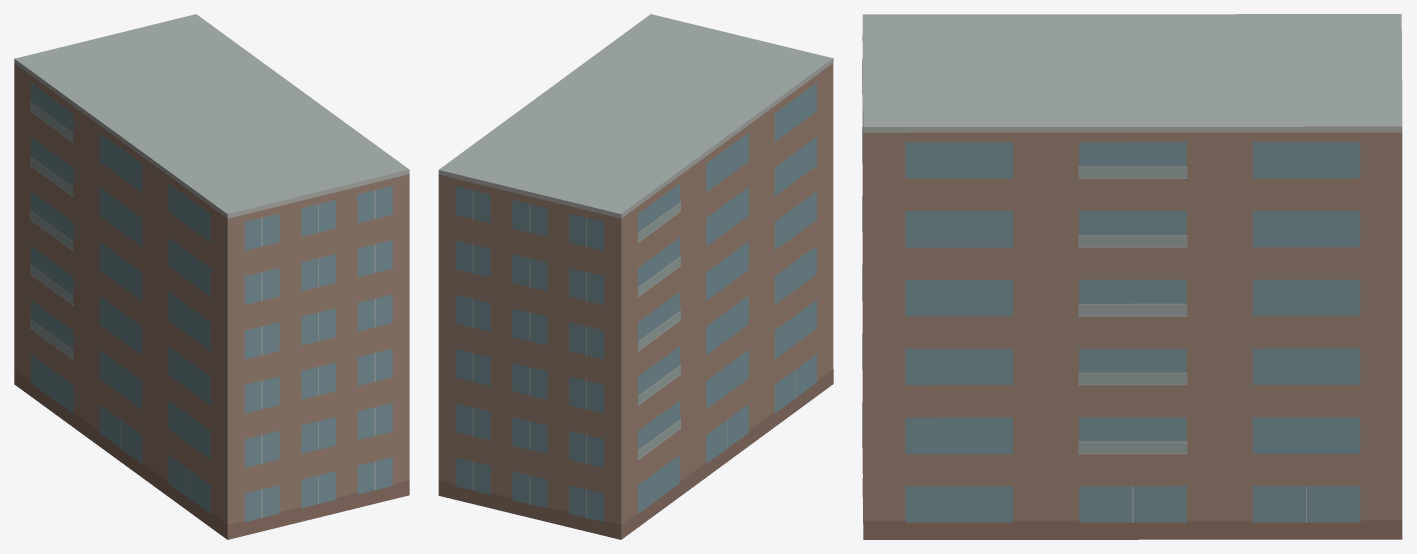
File: survey-upis-32747322.glb
3 renders of one model, left to right at view 1: azimuth 30°, elevation 25°; view 2: azimuth 150°, elevation 25°; view 3: azimuth 270°, elevation 25°, orthographic. The views are drawn at different scales.
Parts seen in each view (by area): view 1: survey-upis-32747322.tmp; view 2: survey-upis-32747322.tmp; view 3: survey-upis-32747322.tmp.
Boxes of the visible parts, box(x1,y1,x2,y2) form: survey-upis-32747322.tmp: box(14, 14, 409, 539); survey-upis-32747322.tmp: box(438, 14, 833, 539); survey-upis-32747322.tmp: box(862, 14, 1402, 539).
Size of the model in its own units: 10.28 by 17.4 by 20.64.
